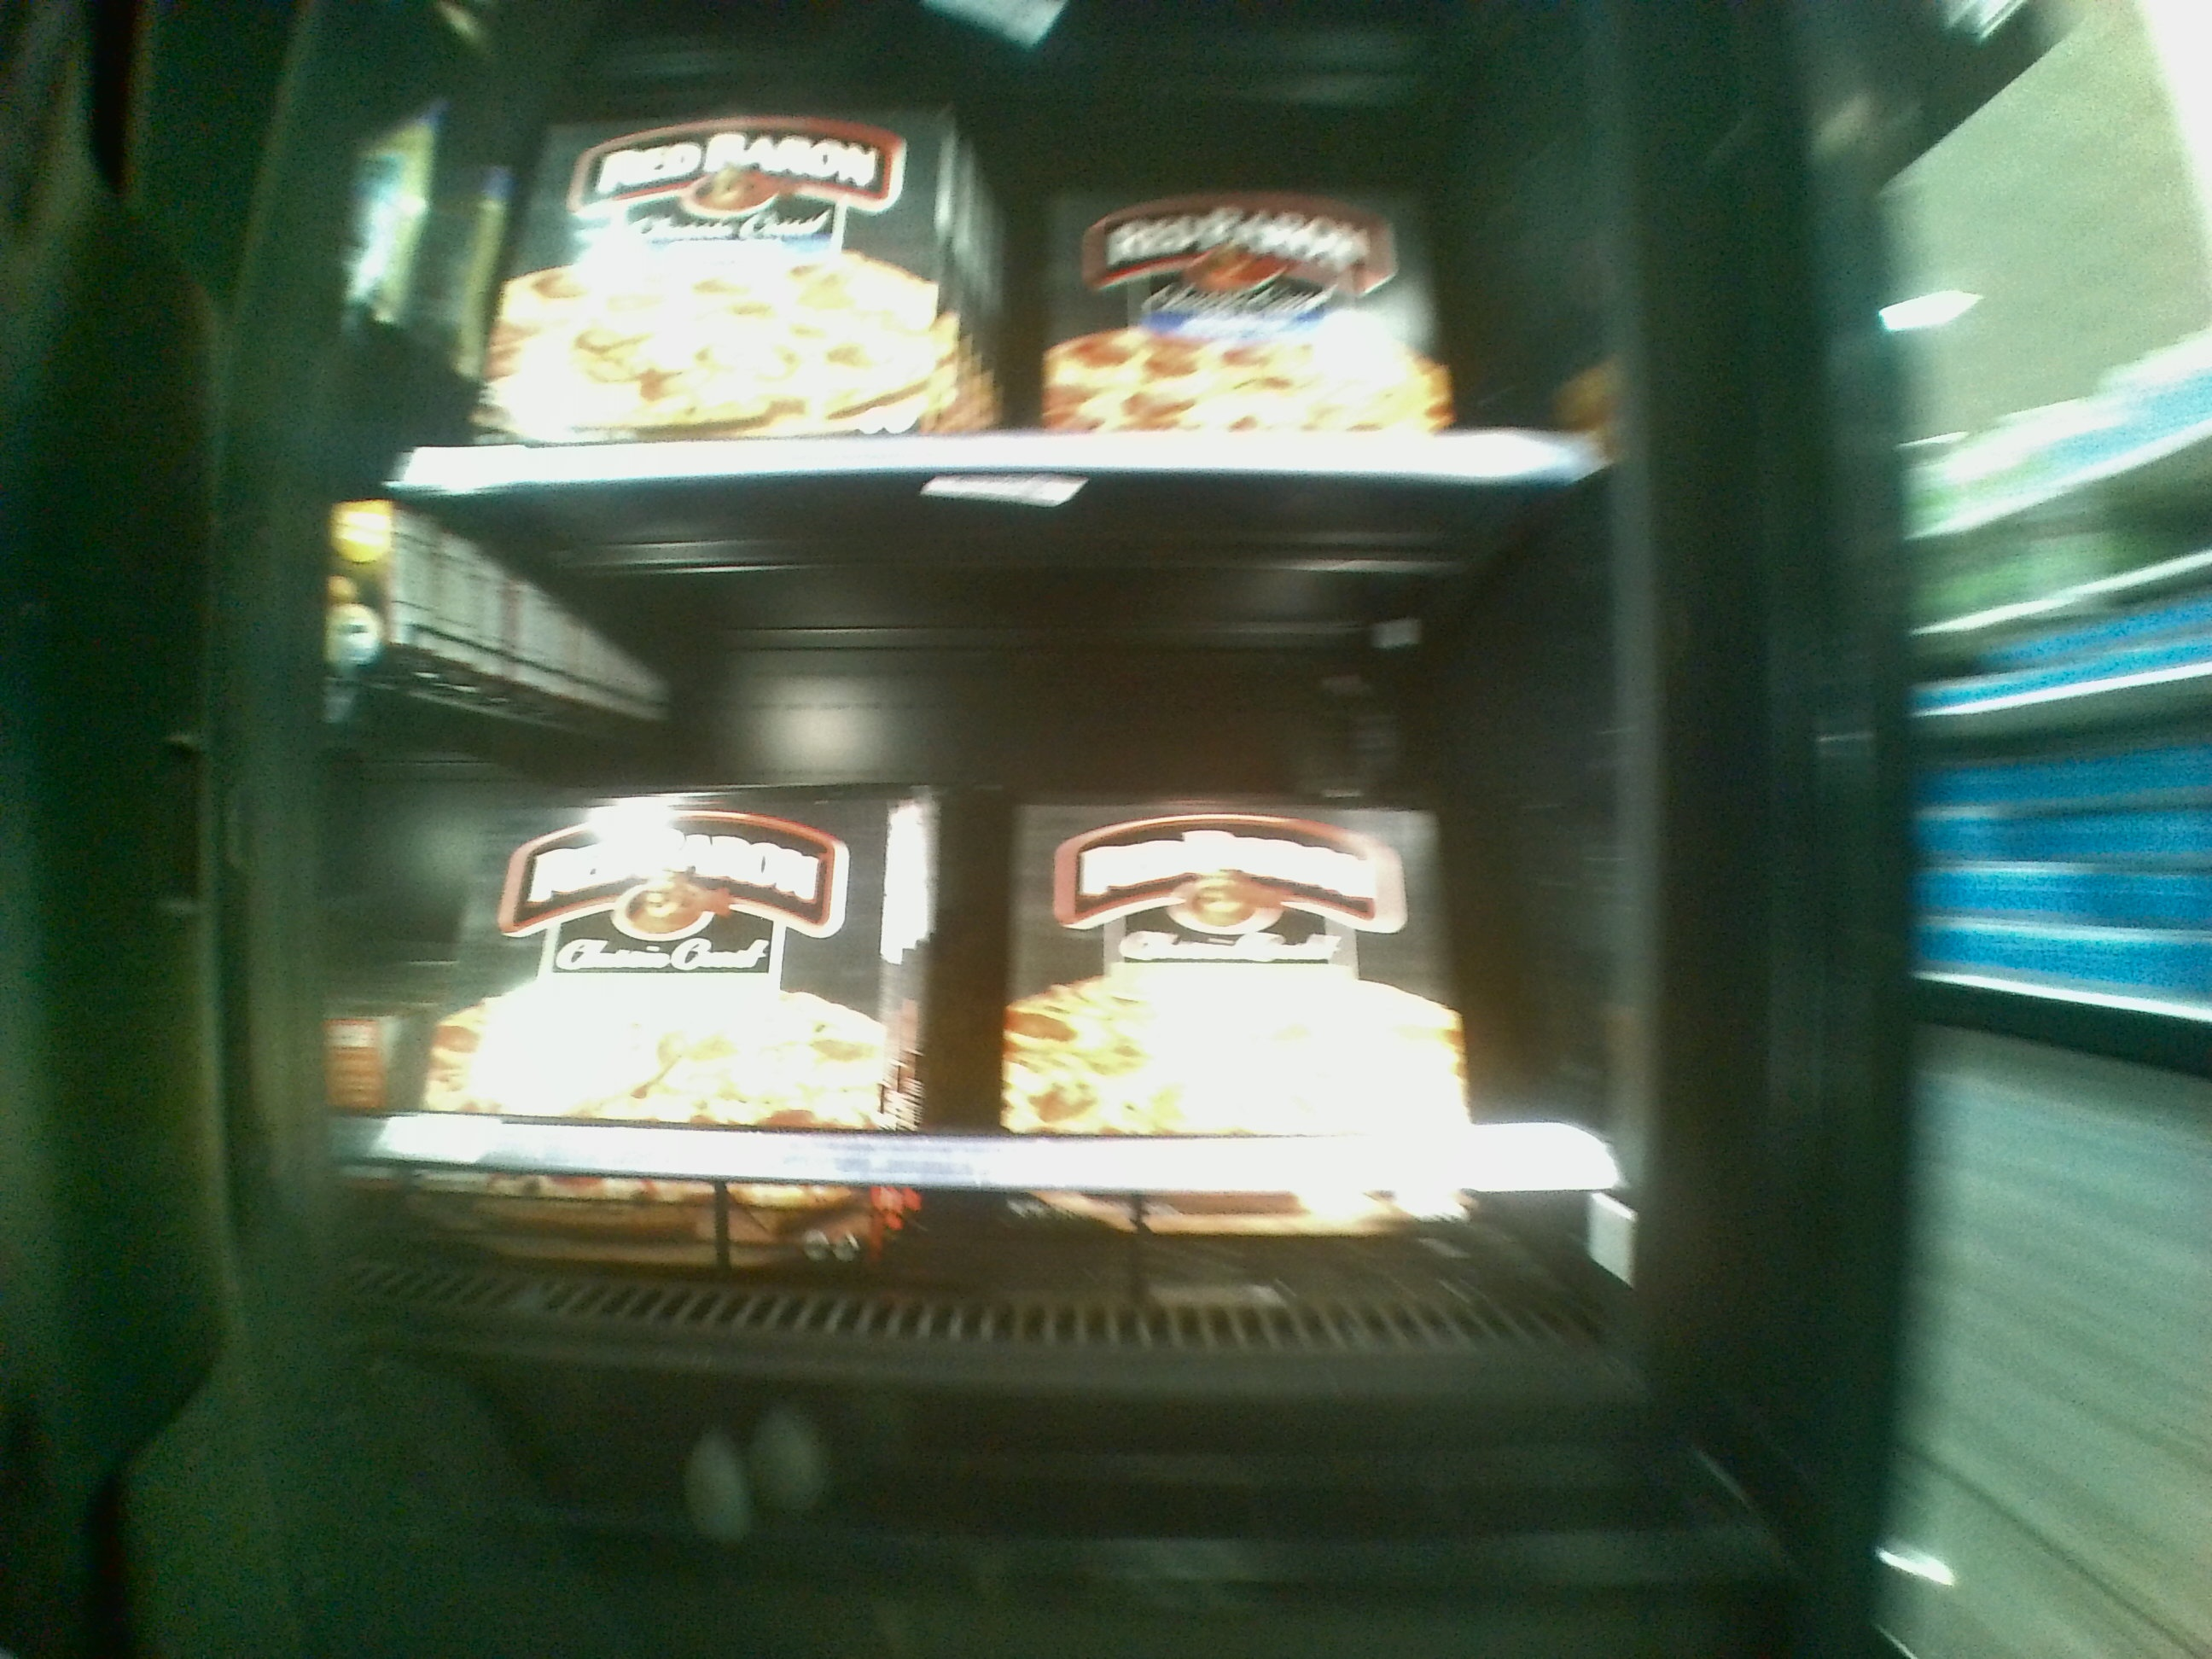shelf: (394, 498, 1623, 1361), (385, 2, 1620, 484)
